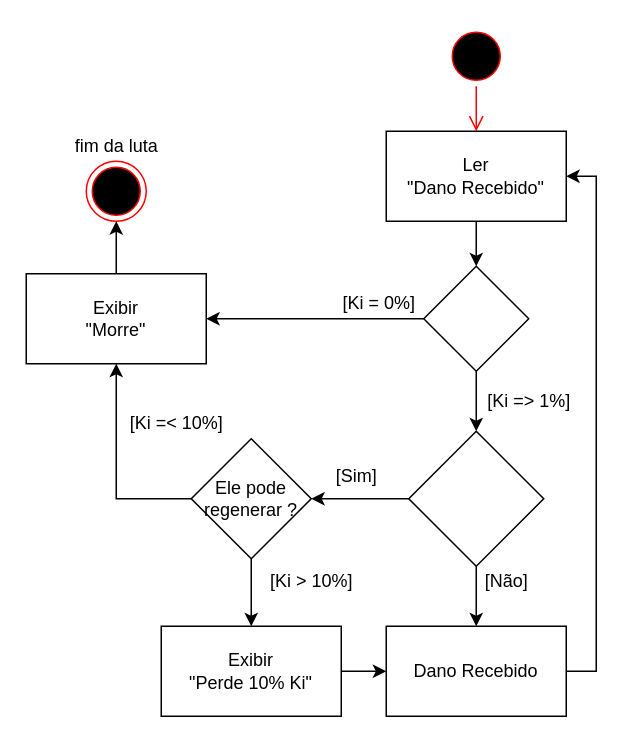
This 635x743 diagram has some shape labels left out. Here are the shapes that lost their labels. From the top down, the centre of each, then its label:
(475,318): Ki Total
(475,498): "Perdeu parte do corpo"
